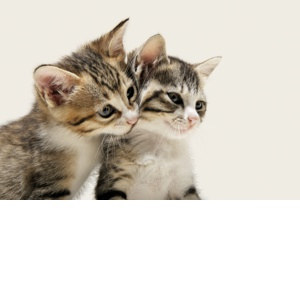cat: (30, 6, 141, 167), (143, 29, 222, 150)
